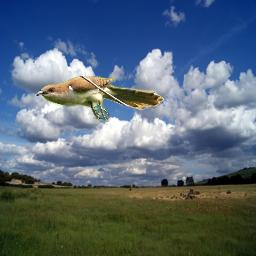Cuckoo: (35, 76, 165, 122)
